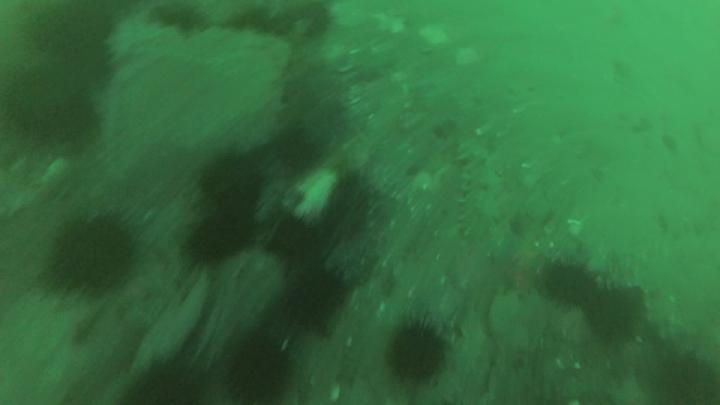echinus: (46, 222, 129, 295), (228, 344, 290, 405), (202, 156, 268, 210), (4, 74, 57, 141), (193, 208, 253, 265), (286, 268, 342, 324), (388, 326, 445, 380), (134, 366, 205, 405), (589, 286, 637, 340), (545, 263, 596, 312), (55, 92, 95, 150), (274, 129, 318, 176), (270, 217, 315, 260)
holothurian: (458, 138, 503, 242)
scallop: (329, 384, 343, 403)
starfish: (488, 240, 547, 288)
